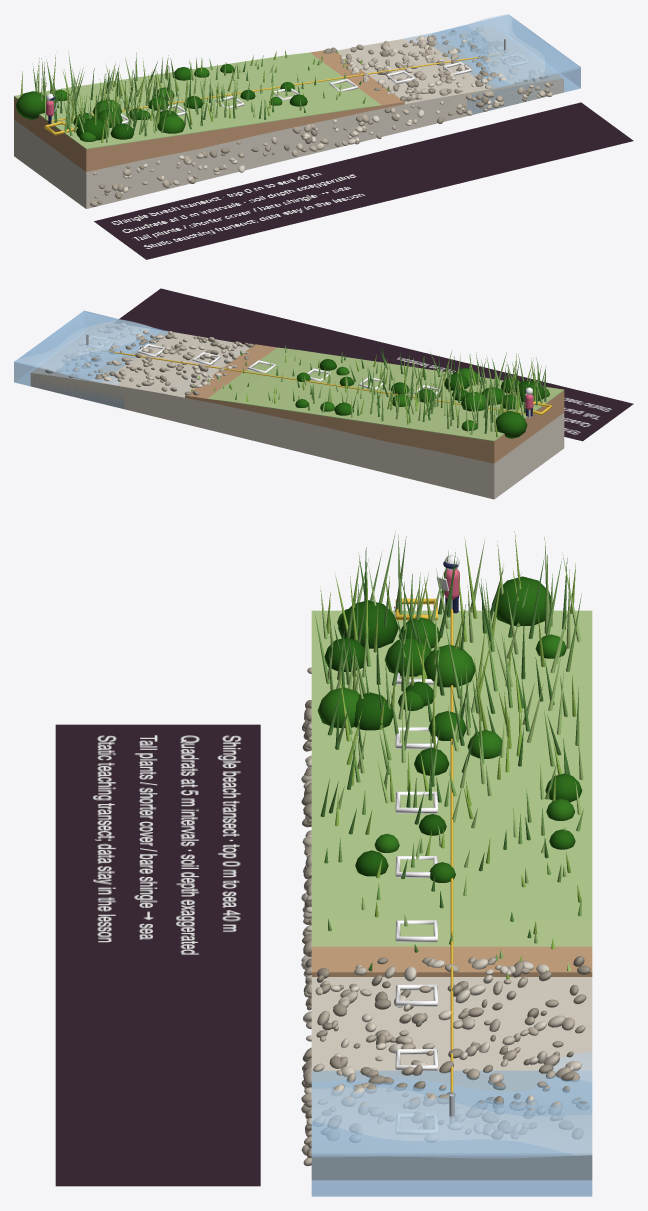
The model's file is ecology.glb.
3 views of the same model, one above another, from view 1: azimuth 30°, elevation 25°; view 2: azimuth 150°, elevation 25°; view 3: azimuth 270°, elevation 25° (orthographic). The views are drawn at different scales.
Visible parts, largest first — view 1: ecology_authored_teaching_model, Scale_and_credit; view 2: ecology_authored_teaching_model, Scale_and_credit; view 3: ecology_authored_teaching_model, Scale_and_credit.
Part boxes in pixels (box(x1,y1,x2,y2)): ecology_authored_teaching_model: box(14, 14, 580, 208); Scale_and_credit: box(94, 102, 633, 259); ecology_authored_teaching_model: box(14, 310, 564, 499); Scale_and_credit: box(119, 288, 633, 441); ecology_authored_teaching_model: box(301, 530, 592, 1196); Scale_and_credit: box(55, 724, 260, 1186).
Bounding box in the file's own units: 0.6267 × 0.1262 × 0.2946.
Materials: 731 (1 with a texture image).
